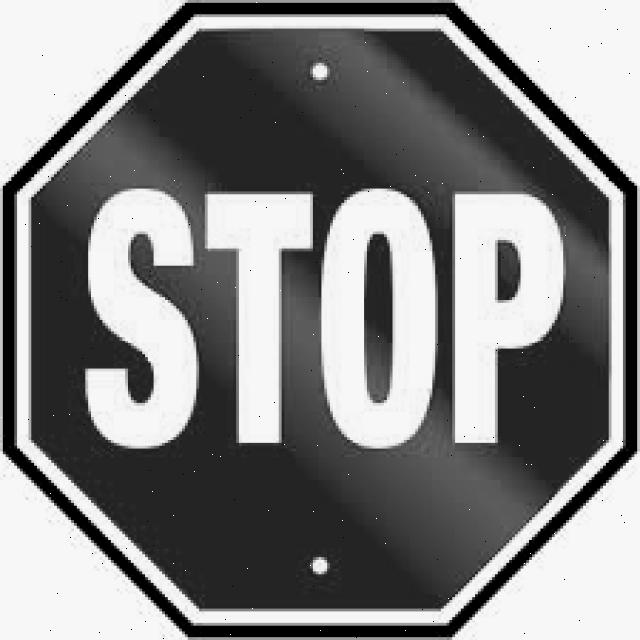stop sign: (6, 5, 629, 632)
